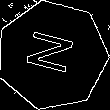N_E: (23, 29, 82, 81)
